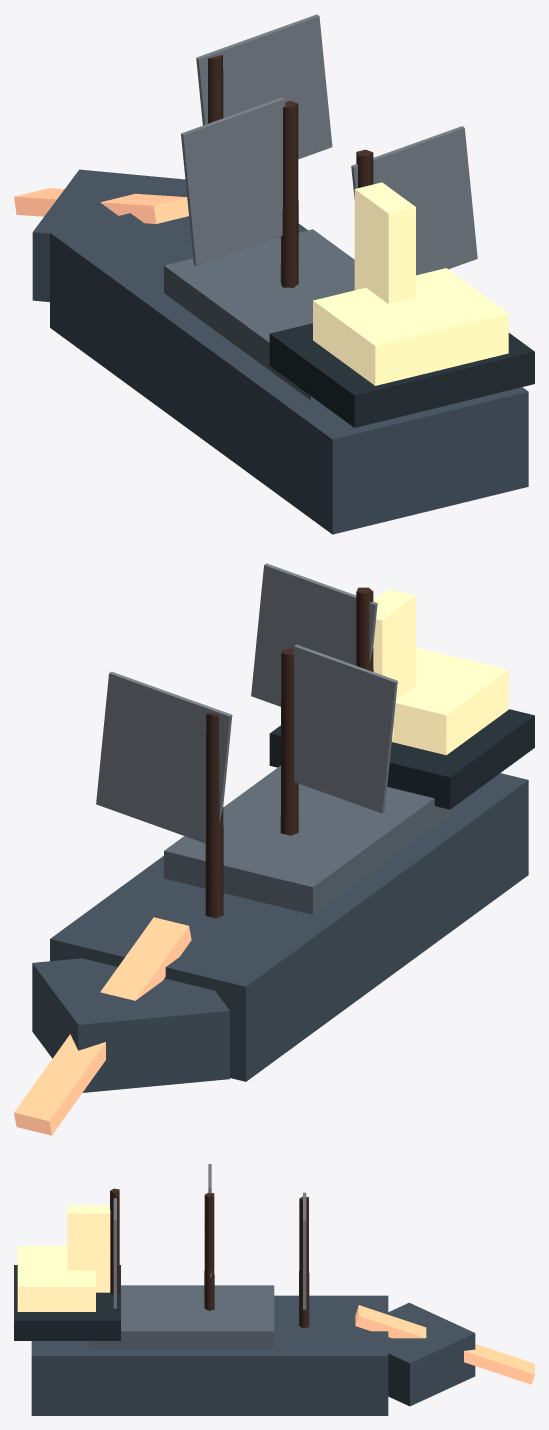
File: ship_main_60_lod2.glb
The picture shows the model from 3 angles, top to bottom: view 1: azimuth 30°, elevation 25°; view 2: azimuth 150°, elevation 25°; view 3: azimuth 270°, elevation 25°; orthographic projection. The views are drawn at different scales.
Visible parts, largest first — view 1: Hull, UpperGallery, Deck_0, Sail_1, LowerGallery, Sail_0, Sail_2, CrownSpire, Bow, Mast_1, ProwIdentity, Mast_0 (+1 smaller); view 2: Hull, Deck_0, Bow, Sail_0, Sail_1, Sail_2, UpperGallery, ProwIdentity, LowerGallery, CrownSpire, Mast_0, Mast_1 (+1 smaller); view 3: Hull, Deck_0, Bow, UpperGallery, LowerGallery, CrownSpire, ProwIdentity, Mast_1, Mast_0, Mast_2, Sail_0, Sail_2.
Boxes of the visible parts, x1,y1,x2,y2 form: Hull: (50, 213, 528, 534); UpperGallery: (313, 268, 508, 385); Deck_0: (164, 229, 354, 400); Sail_1: (181, 97, 285, 266); LowerGallery: (269, 323, 534, 427); Sail_0: (196, 14, 332, 159); Sail_2: (351, 126, 477, 275); CrownSpire: (354, 182, 415, 303); Bow: (32, 169, 186, 301); Mast_1: (280, 101, 298, 287); ProwIdentity: (14, 188, 188, 223); Mast_0: (208, 55, 223, 123); Hull: (50, 773, 528, 1081); Deck_0: (164, 765, 459, 914); Bow: (32, 958, 229, 1092); Sail_0: (96, 671, 232, 843); Sail_1: (293, 644, 397, 813); Sail_2: (251, 563, 377, 706); UpperGallery: (391, 647, 508, 755); ProwIdentity: (14, 917, 191, 1135); LowerGallery: (269, 709, 534, 809); CrownSpire: (373, 589, 415, 738); Mast_0: (205, 712, 223, 918); Mast_1: (280, 648, 298, 835); Hull: (31, 1295, 388, 1415); Deck_0: (89, 1285, 274, 1348); Bow: (388, 1302, 475, 1406); UpperGallery: (17, 1246, 95, 1311); LowerGallery: (14, 1265, 120, 1340); CrownSpire: (67, 1205, 110, 1292); ProwIdentity: (355, 1305, 534, 1384); Mast_1: (204, 1193, 214, 1310); Mast_0: (299, 1196, 309, 1327); Mast_2: (110, 1188, 119, 1294); Sail_0: (303, 1192, 306, 1309); Sail_2: (113, 1198, 116, 1308).
Size of the model in its own units: 2.9 by 3.86 by 9.26.
